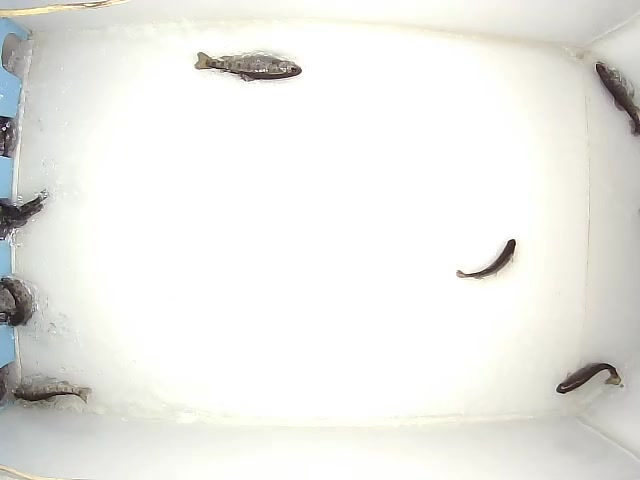fish: (193, 49, 305, 83), (452, 236, 518, 283), (553, 361, 623, 396)
